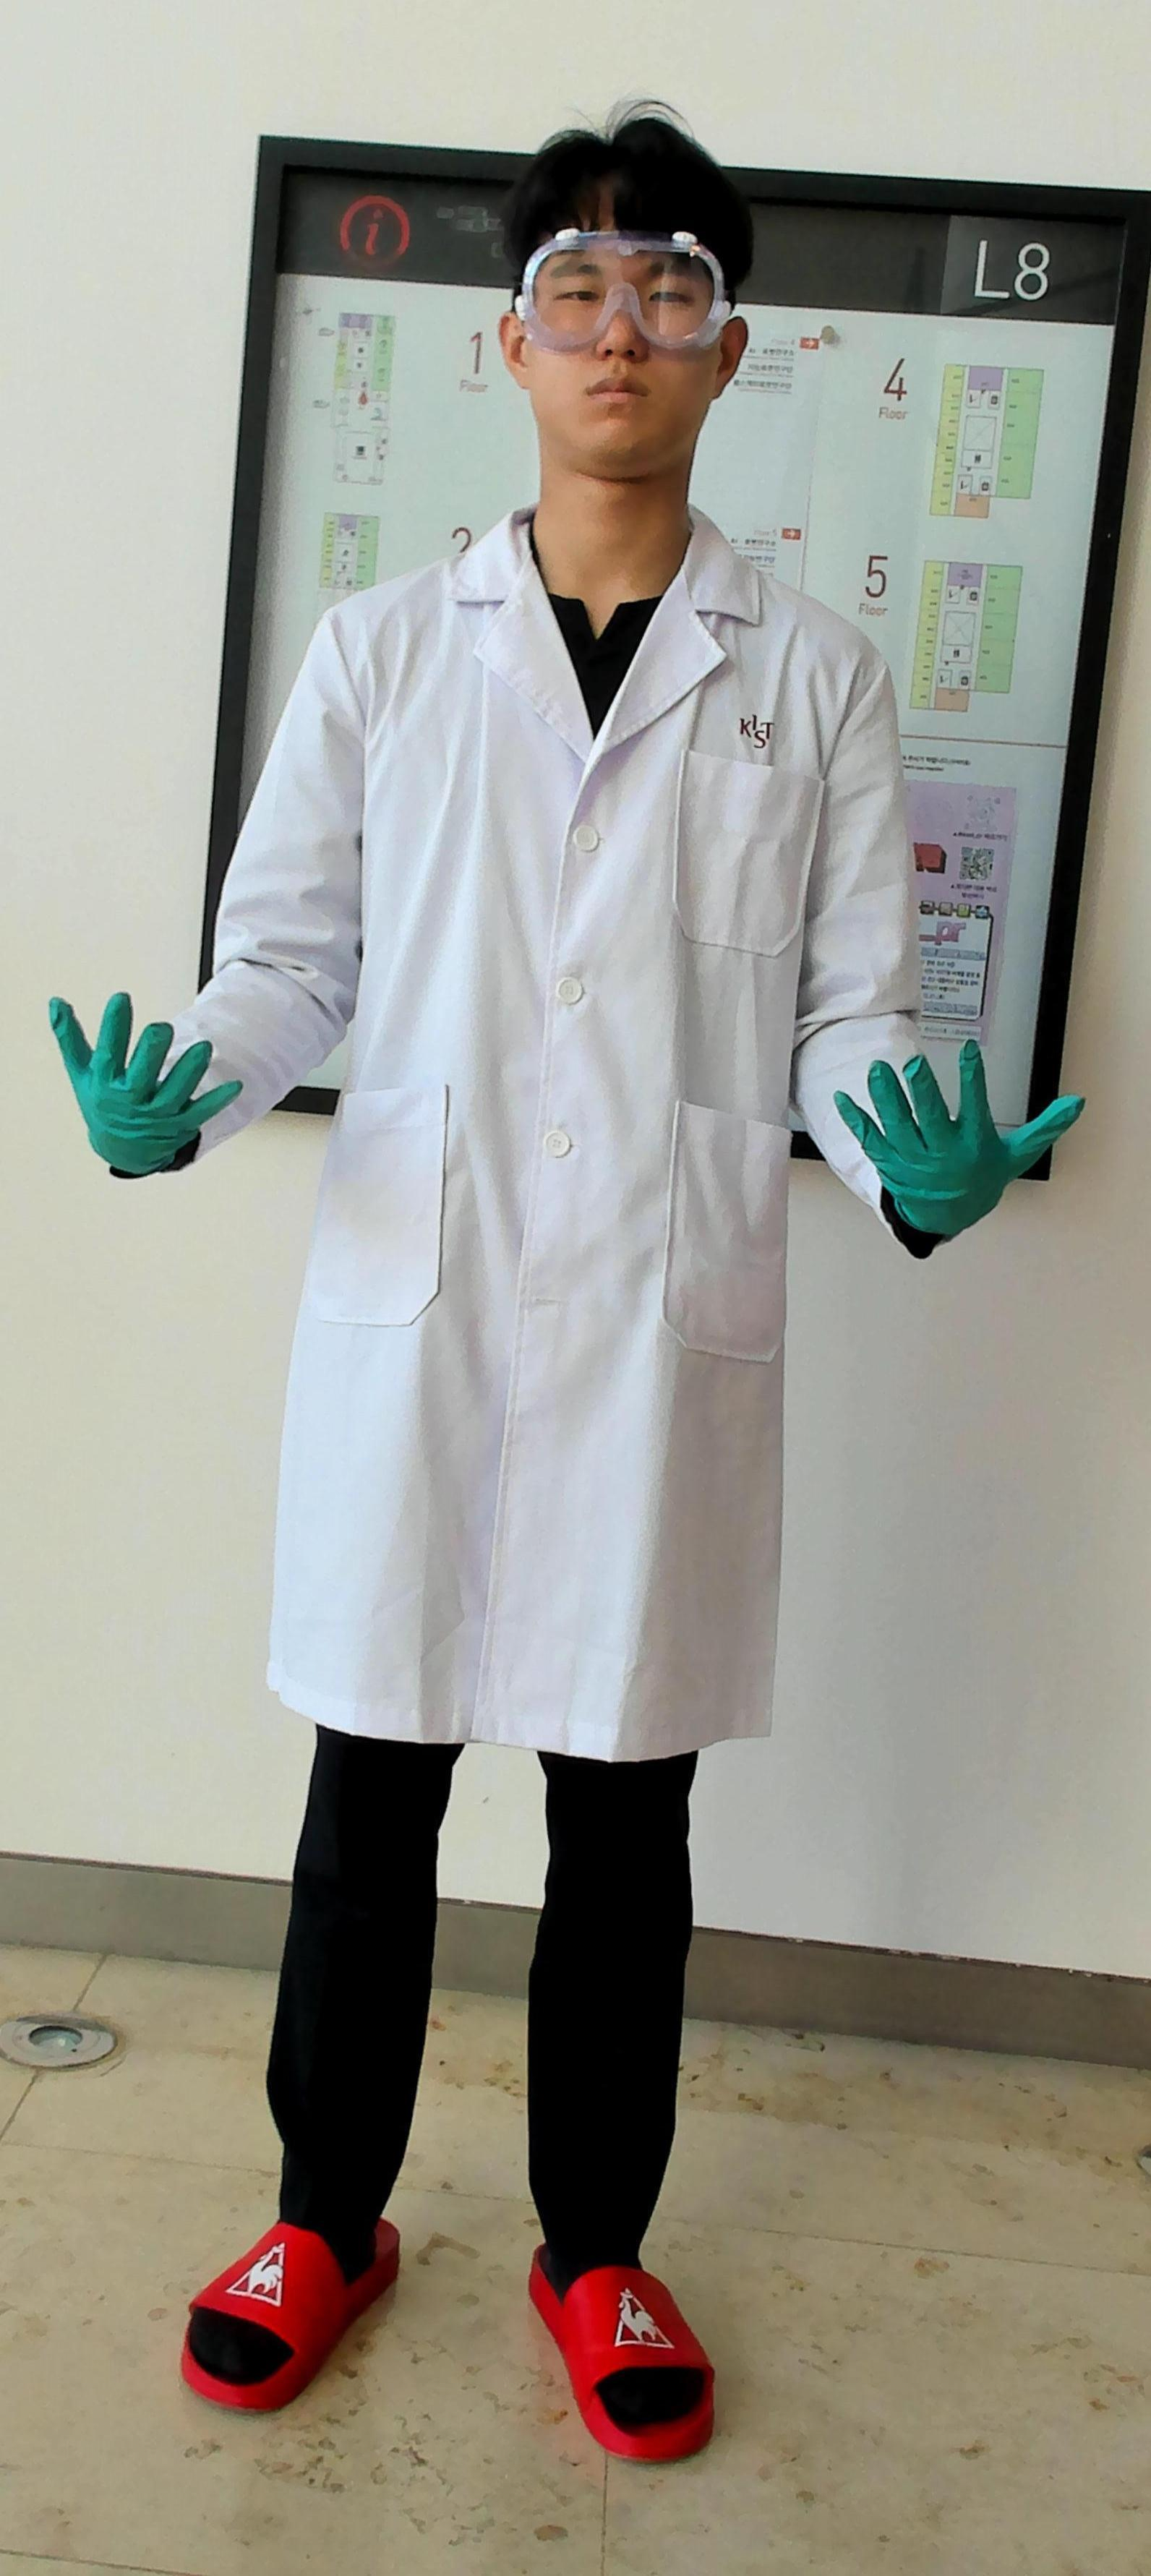lab_coat: (309, 623, 818, 1709)
